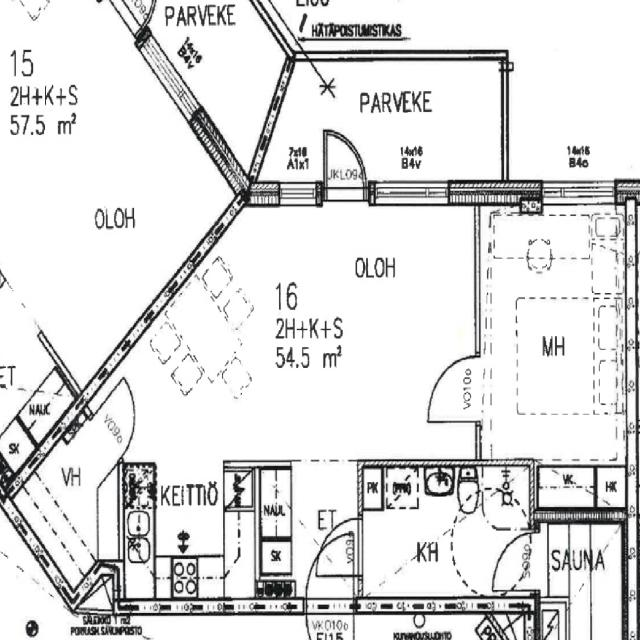door: (89, 379, 151, 462), (307, 534, 353, 612), (428, 356, 481, 421), (325, 124, 366, 204), (488, 534, 540, 590), (316, 518, 363, 576), (307, 597, 353, 640)
